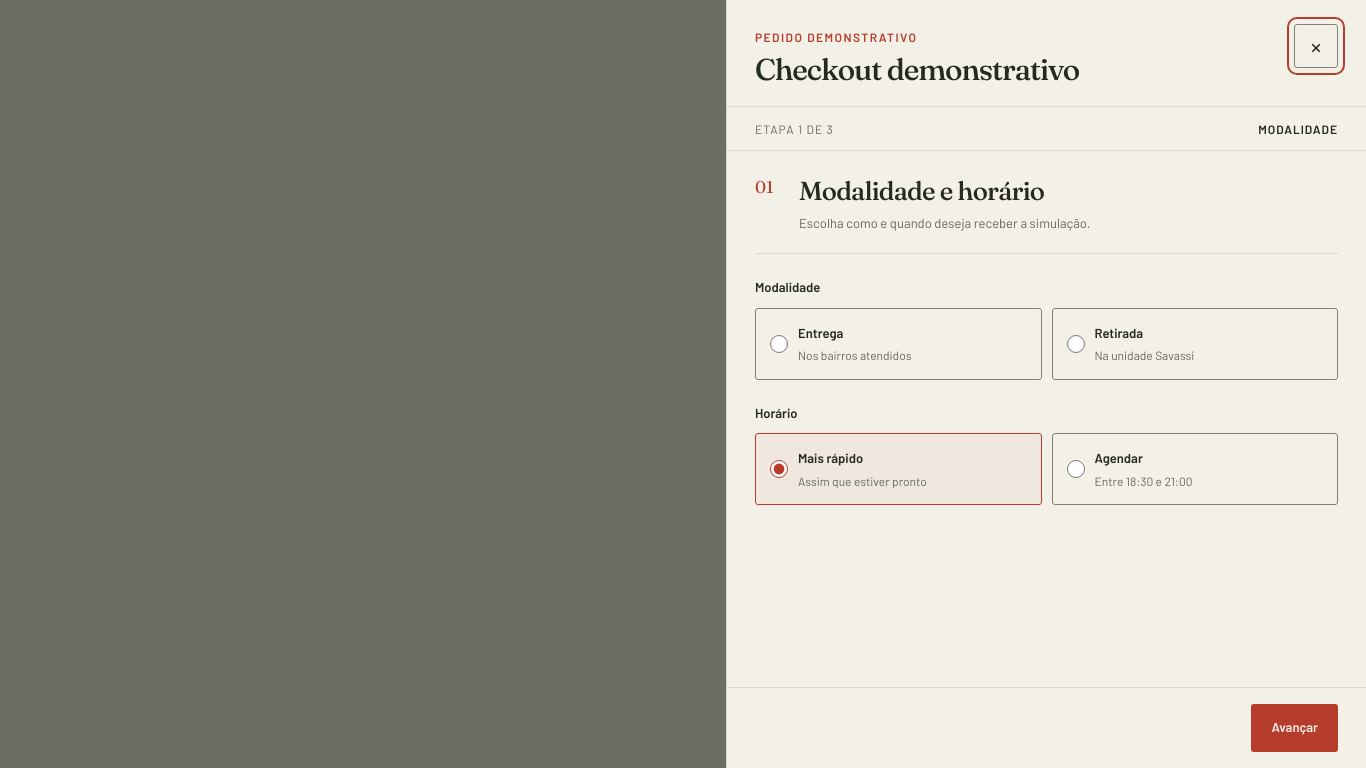
CheckoutDemo › exige horário ao agendar e mantém o erro próximo ao campo
Step 1. Click the radio button labelled "Retirada" → (1076, 344), box 1066,335 -> 1084,353
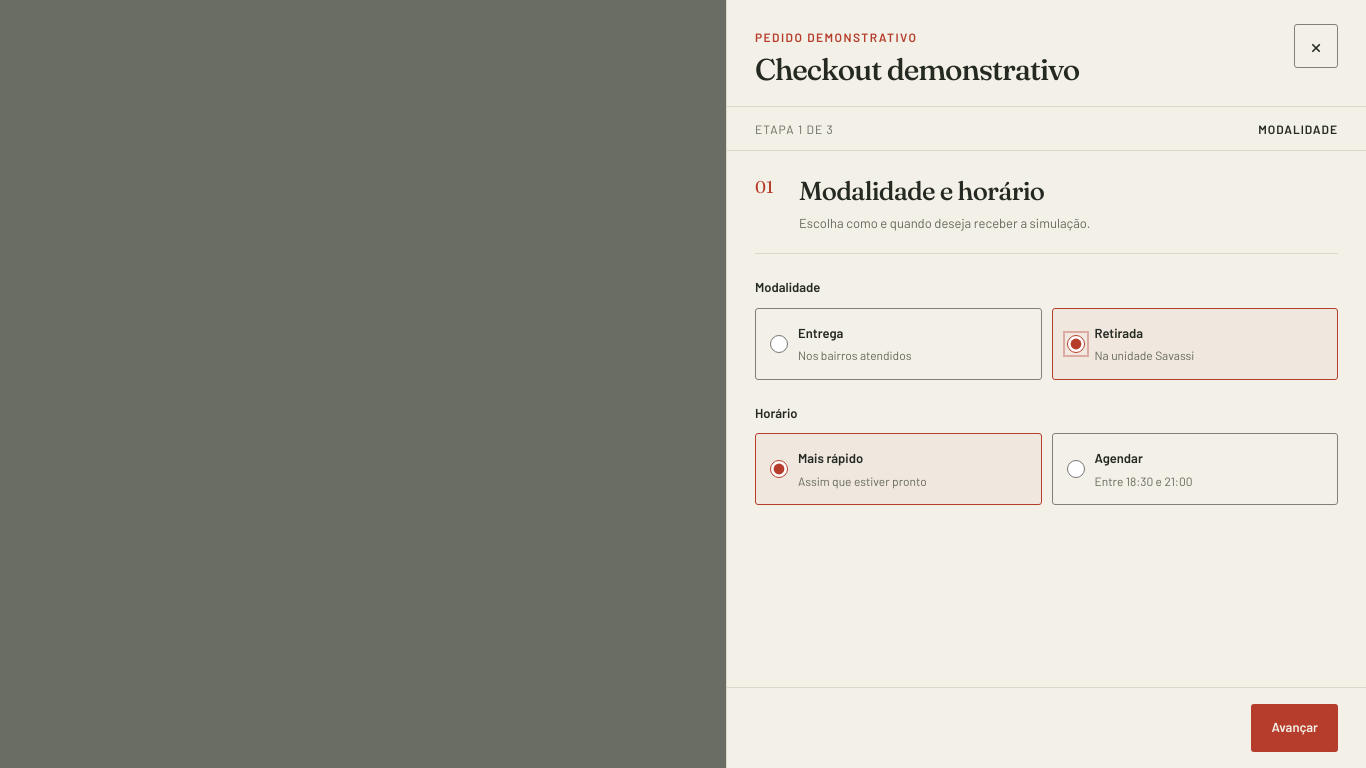
Step 2. Click the radio button labelled "Agendar" → (1076, 469), box 1066,460 -> 1084,478
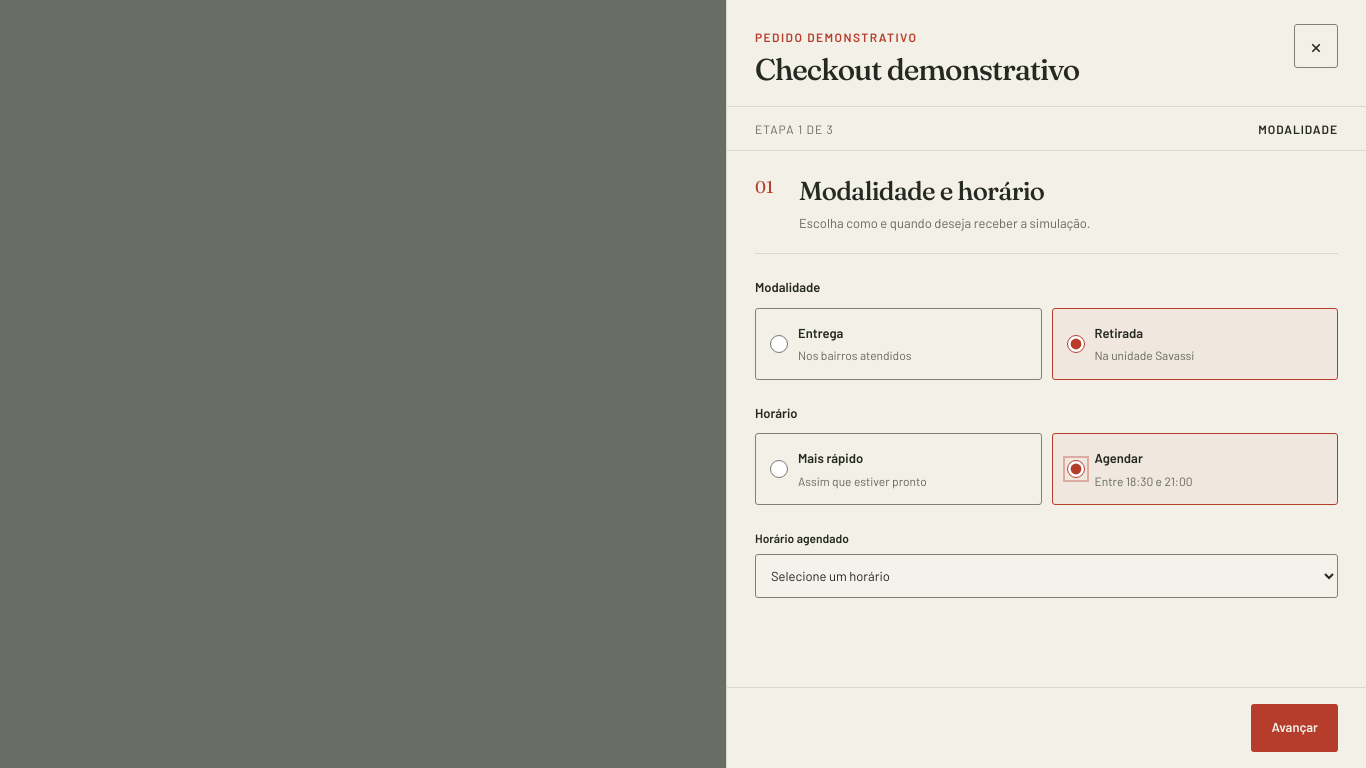
Step 3. Click the button "Avançar" → (1295, 728), box 1252,704 -> 1338,752
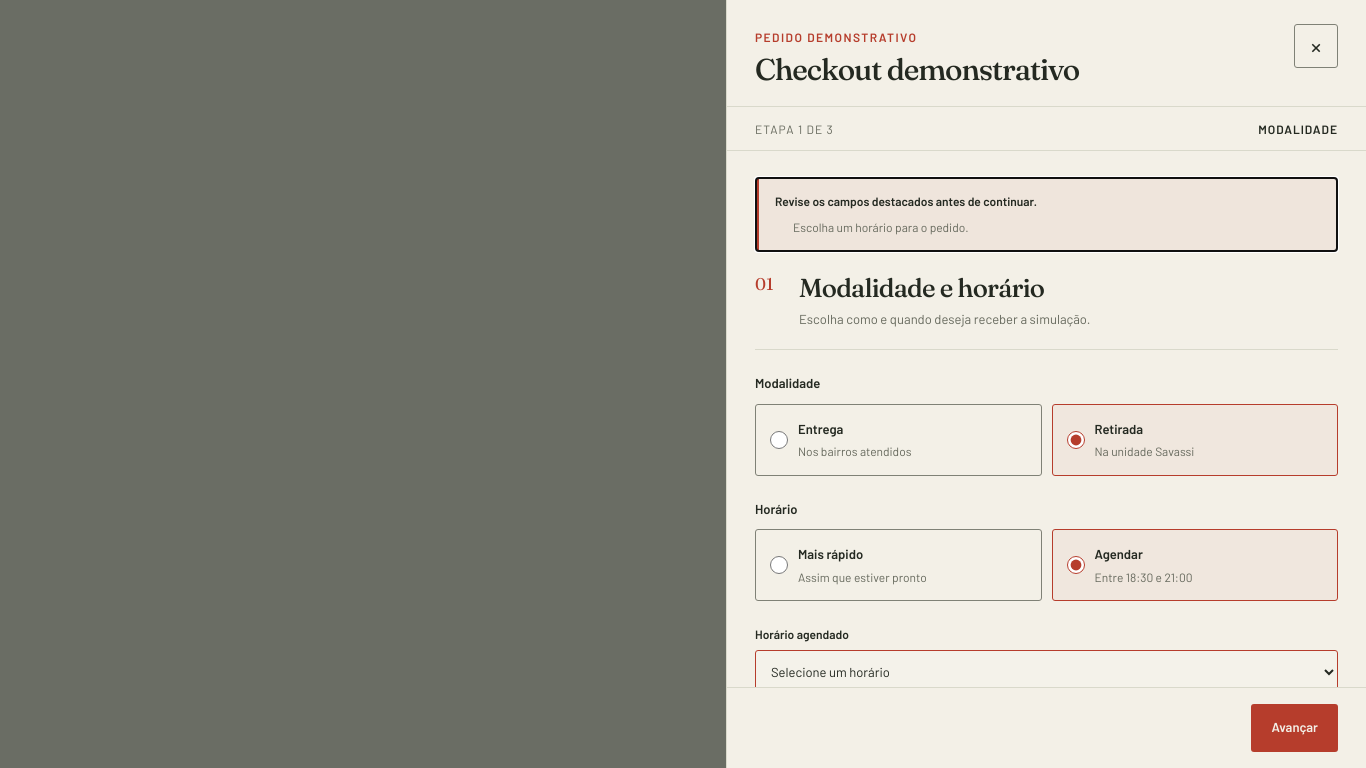
Now the message shows "Revise os campos destacados antes de continuar.", box 775,194 -> 1037,208
Step 4. Select "19:30" in the dropdown labelled "Horário agendado" → (1046, 672), box 755,650 -> 1338,694
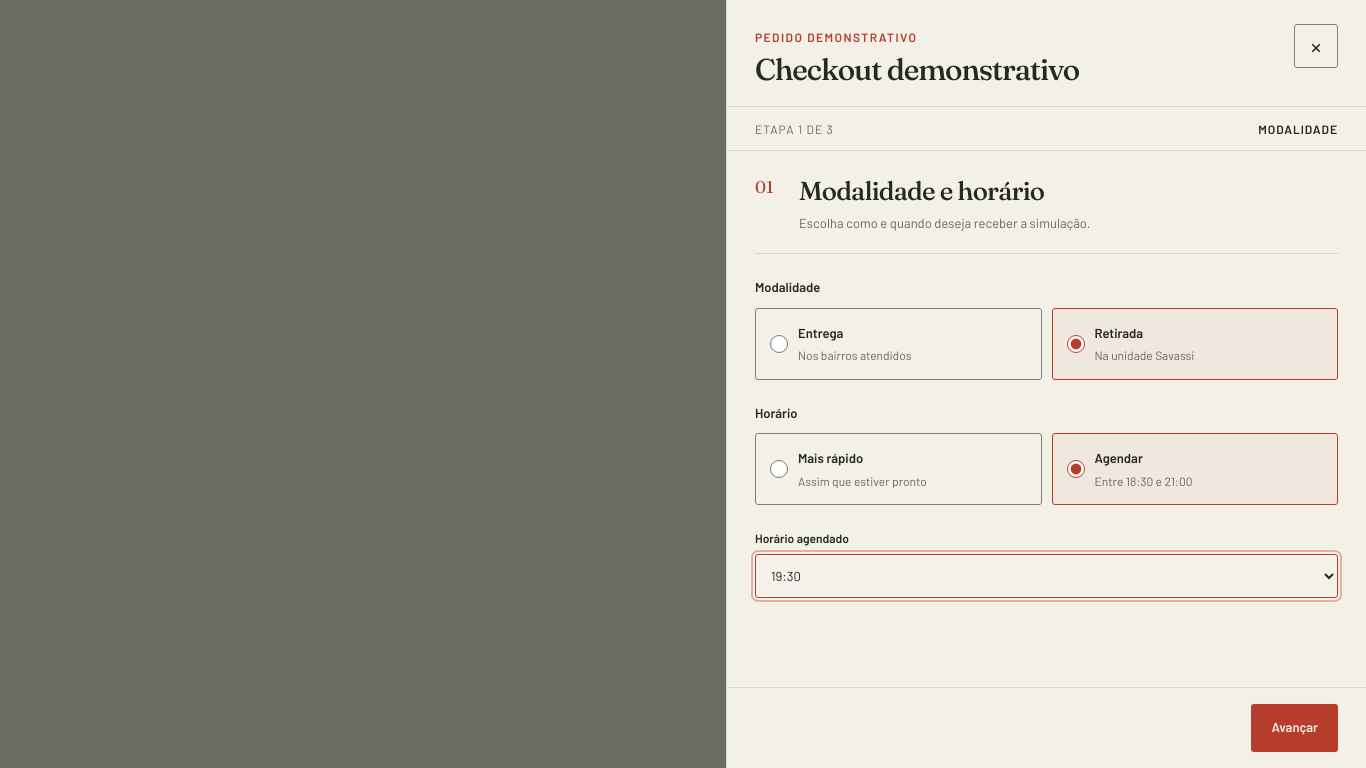
Step 5. Click the button "Avançar" → (1295, 728), box 1252,704 -> 1338,752
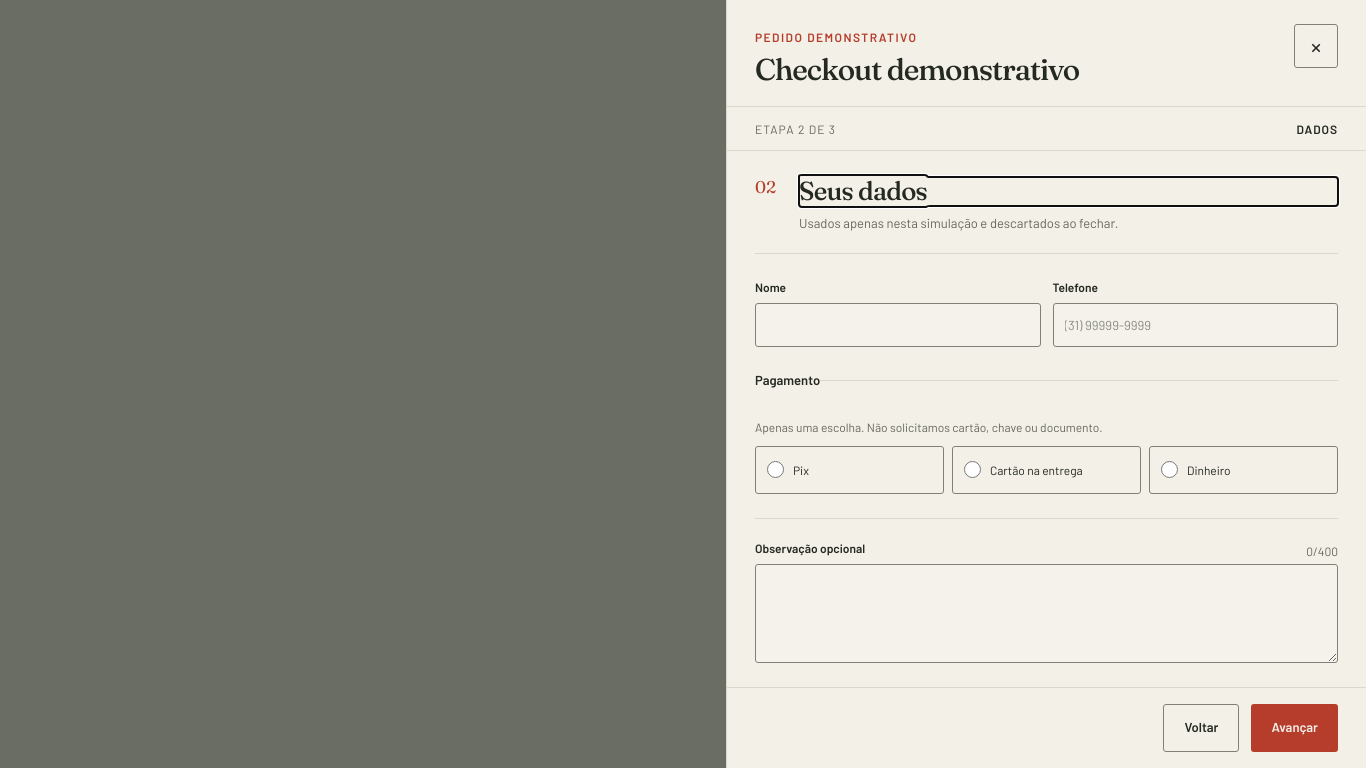
Now the heading "Seus dados" is shown, box 799,175 -> 927,207
